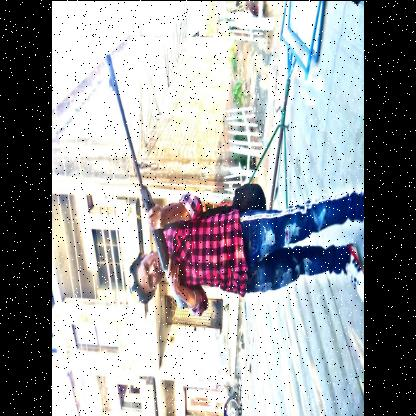rifle: (105, 51, 189, 310)
